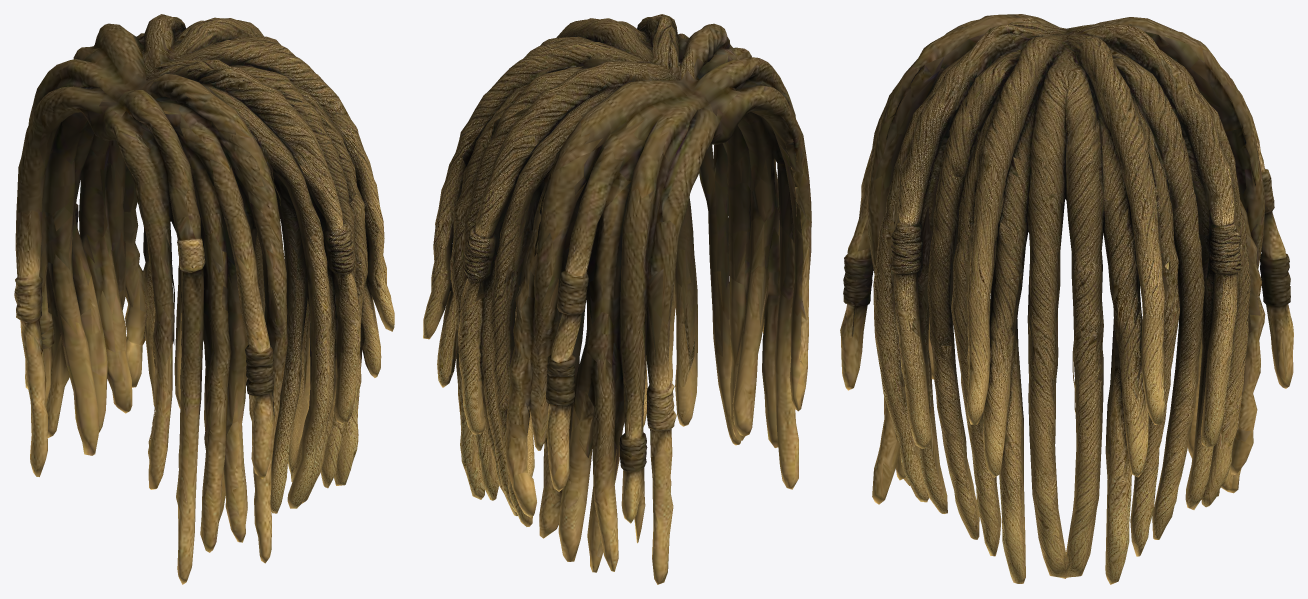
The model's file is dread_loiro.glb.
3 views of the same model, side by side, from view 1: azimuth 30°, elevation 25°; view 2: azimuth 150°, elevation 25°; view 3: azimuth 270°, elevation 25° (orthographic). The views are drawn at different scales.
Visible parts, largest first — view 1: Prop_dread; view 2: Prop_dread; view 3: Prop_dread.
Part boxes in pixels (box(x1,y1,x2,y2)): Prop_dread: box(14, 14, 394, 584); Prop_dread: box(423, 14, 811, 584); Prop_dread: box(840, 14, 1293, 584).
Bounding box in the file's own units: 0.2139 × 0.36 × 0.2945.
Materials: 18 (18 with a texture image).
